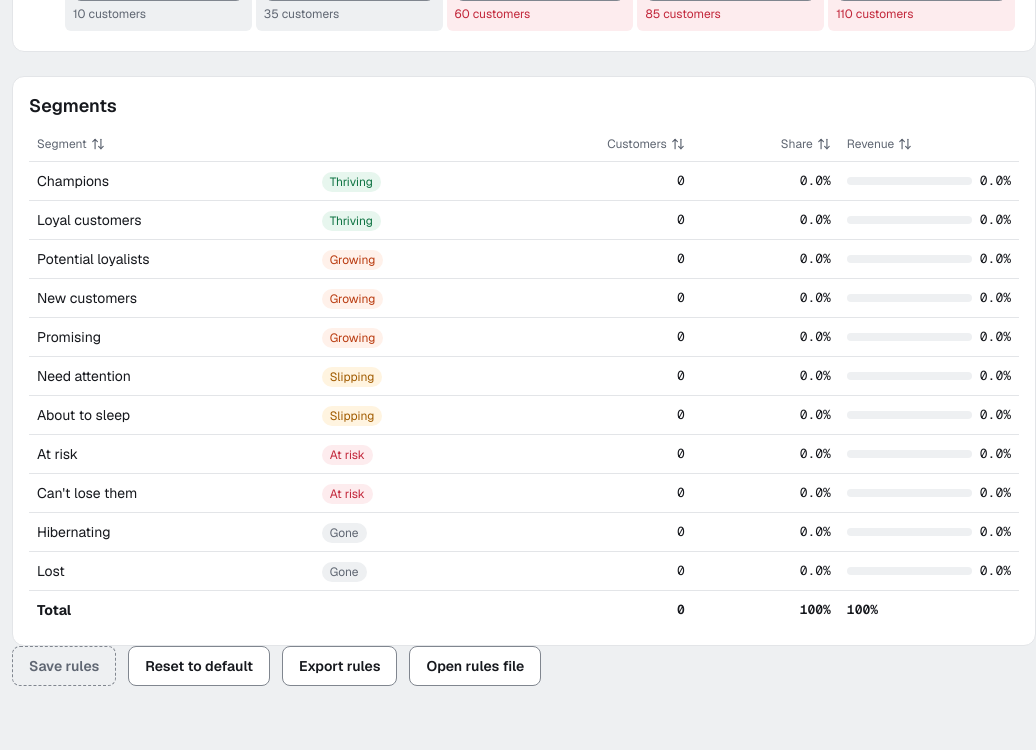
Test: RulesScreen (S7, PRD story 6) › resets to the default rules, as a change that can be undone
(page scrolled)
Click the button "Reset to default": (199, 666) [128, 646, 270, 686]
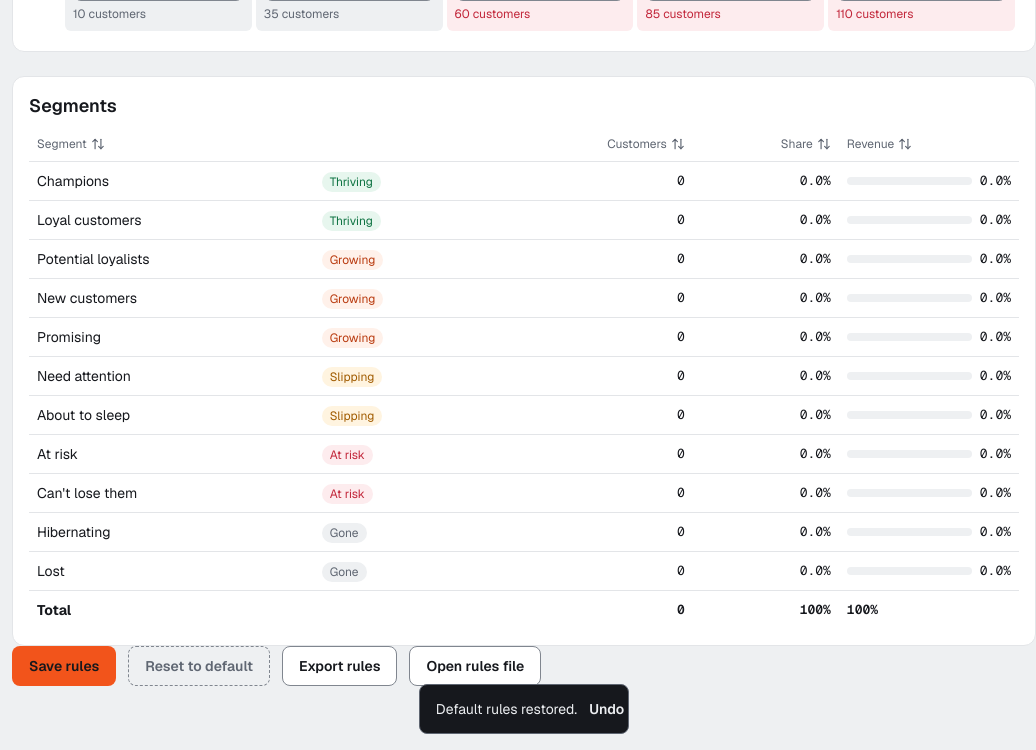
Check: the message shows "Default rules restored.", box [436, 700, 577, 718]
